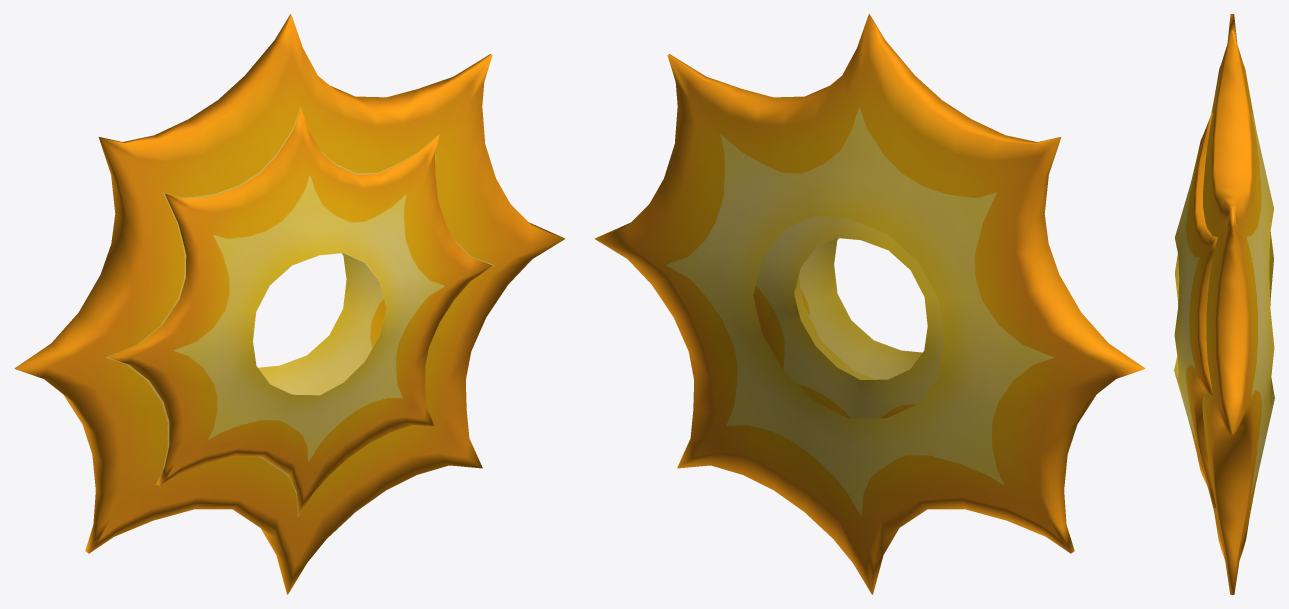
3 renders of one model, left to right at view 1: azimuth 30°, elevation 25°; view 2: azimuth 150°, elevation 25°; view 3: azimuth 270°, elevation 25°, orthographic. The views are drawn at different scales.
Visible parts, largest first — view 1: rooni_rays3, rooni_rays4; view 2: rooni_rays3, rooni_rays4; view 3: rooni_rays3, rooni_rays4.
Part boxes in pixels (box(x1,y1,x2,y2)): rooni_rays3: box(14, 14, 564, 594); rooni_rays4: box(108, 109, 492, 514); rooni_rays3: box(595, 14, 1145, 594); rooni_rays4: box(753, 216, 943, 418); rooni_rays3: box(1202, 14, 1274, 594); rooni_rays4: box(1174, 113, 1217, 508).
Bounding box in the file's own units: 10.74 × 10.8 × 1.79.
Materials: 1 (1 with a texture image).
